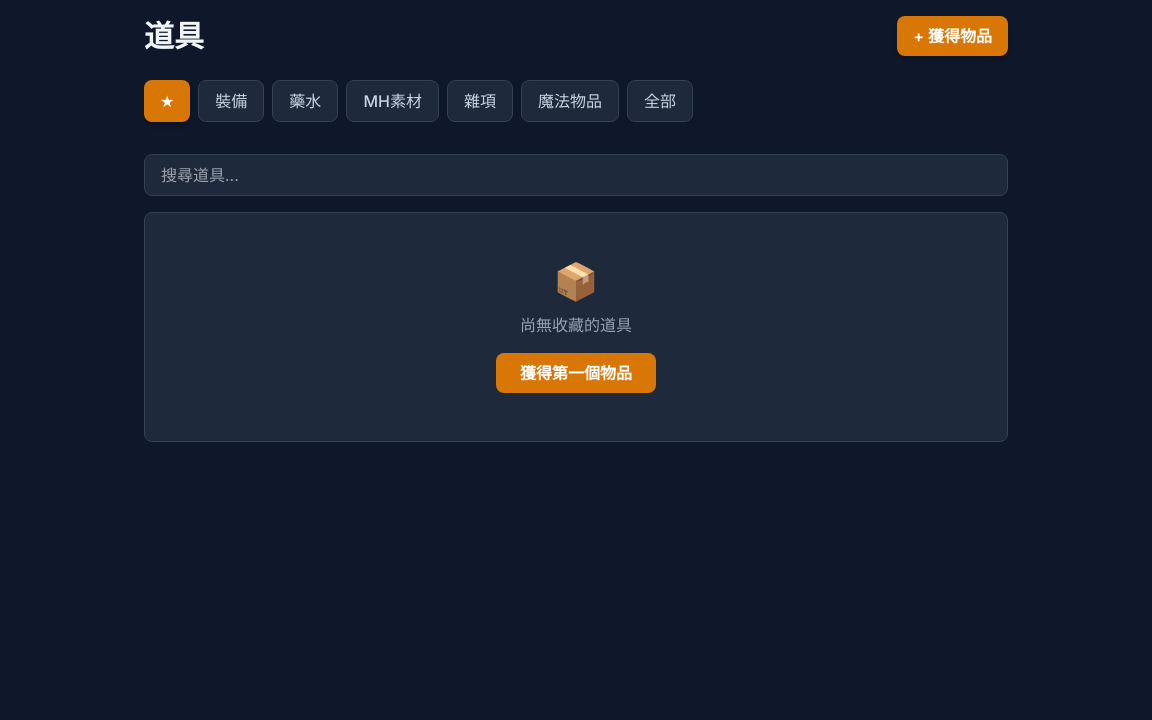
it: ItemsPage - 獲得物品挑到已擁有的物品 › 搜尋結果包含已擁有的物品：顯示「已持有」標籤，點「獲得」跳出數量彈窗，確定後累加數量、不建立新物品、不開詳情
The image size is (1152, 720).
Click the button "+ 獲得物品" at x=953, y=36, box [897, 16, 1008, 56]
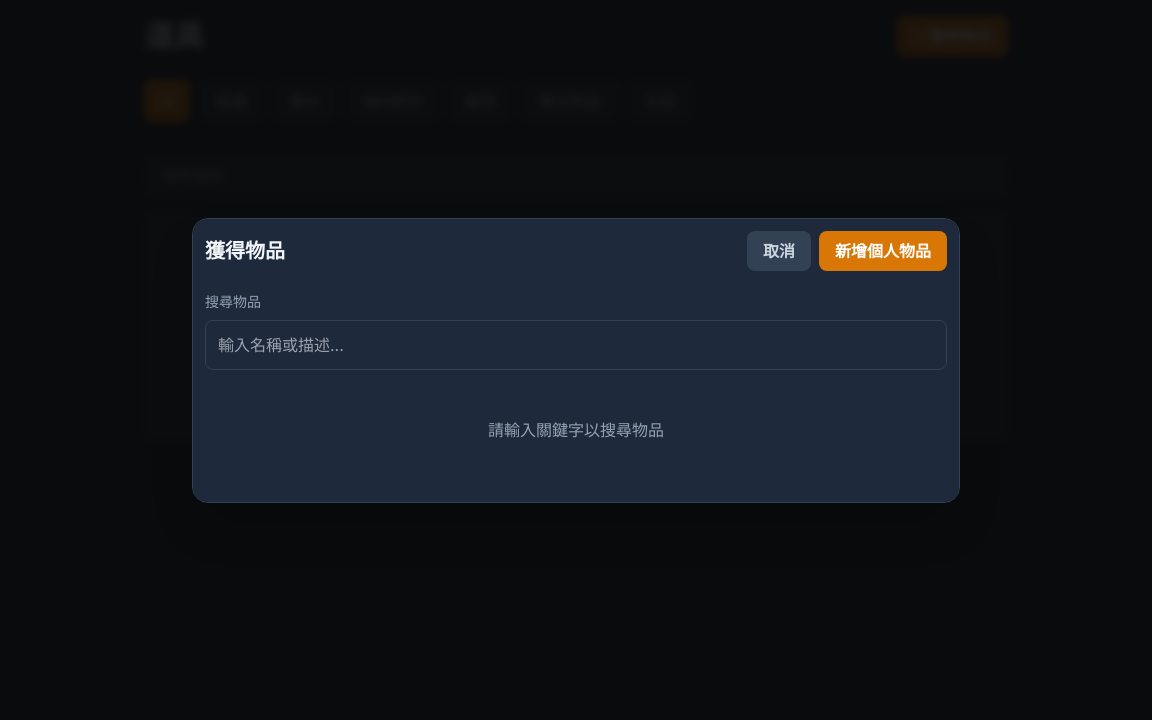
Expected: the field with placeholder "輸入名稱或描述..." is shown
Type "藥草" into the field with placeholder "輸入名稱或描述..." at x=576, y=344, box [205, 320, 947, 370]
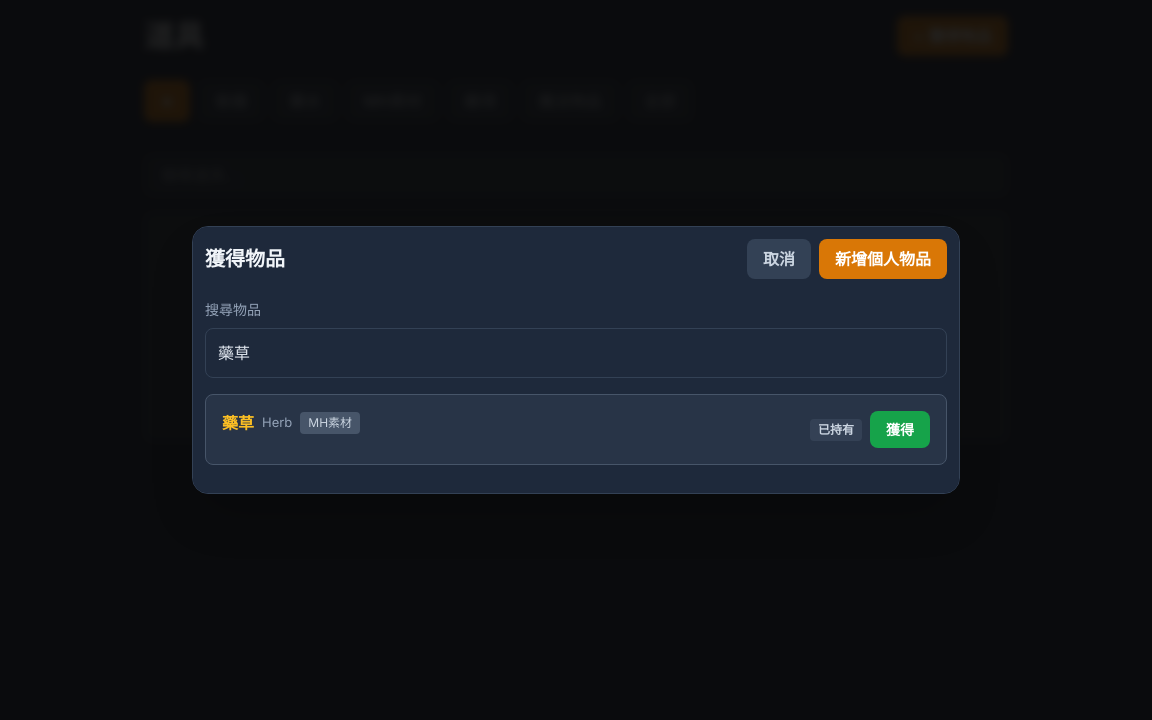
Expected: the text "已持有" is shown, [810, 418, 862, 440]
Click the button "獲得" at x=900, y=430, box [870, 411, 930, 448]
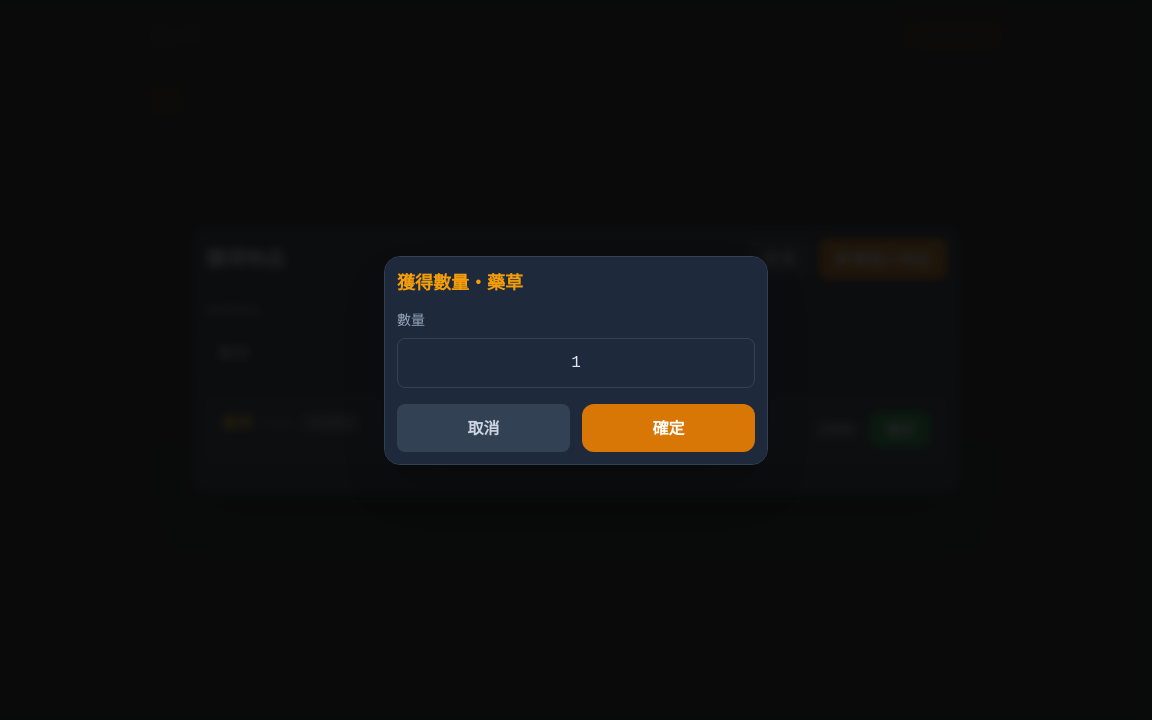
Replace the text in the field labelled "數量" with "3" at x=576, y=362, box [397, 338, 755, 388]
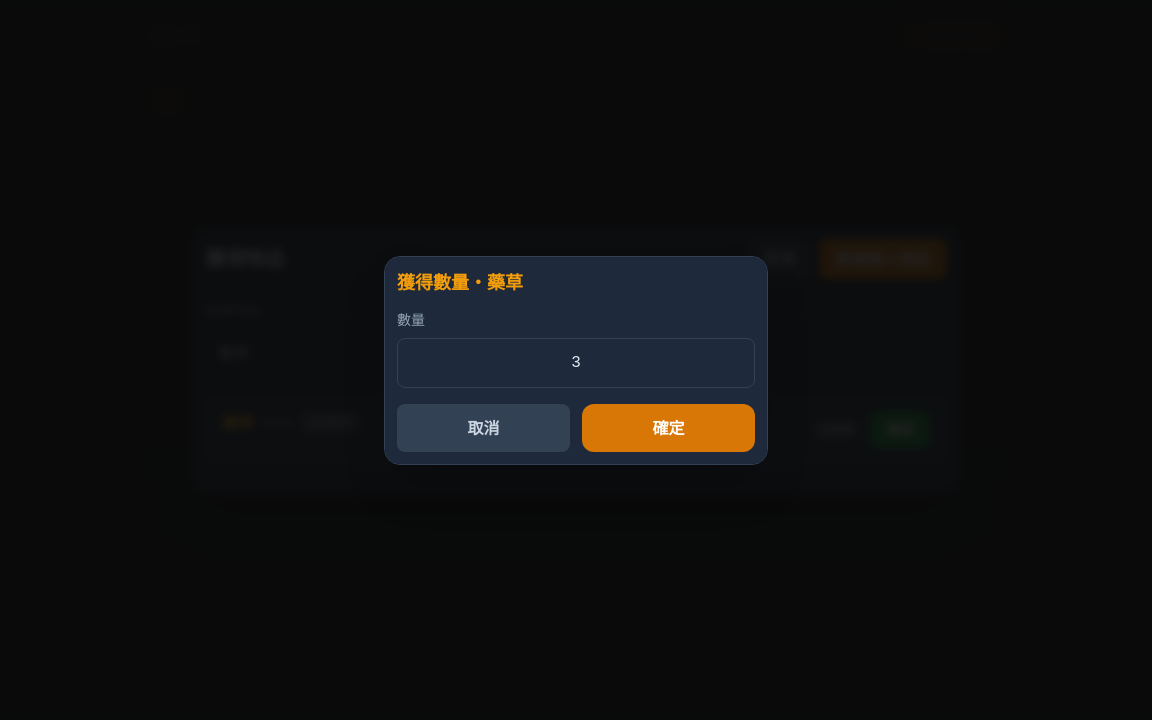
Click the button "確定" at x=668, y=428, box [582, 404, 755, 452]
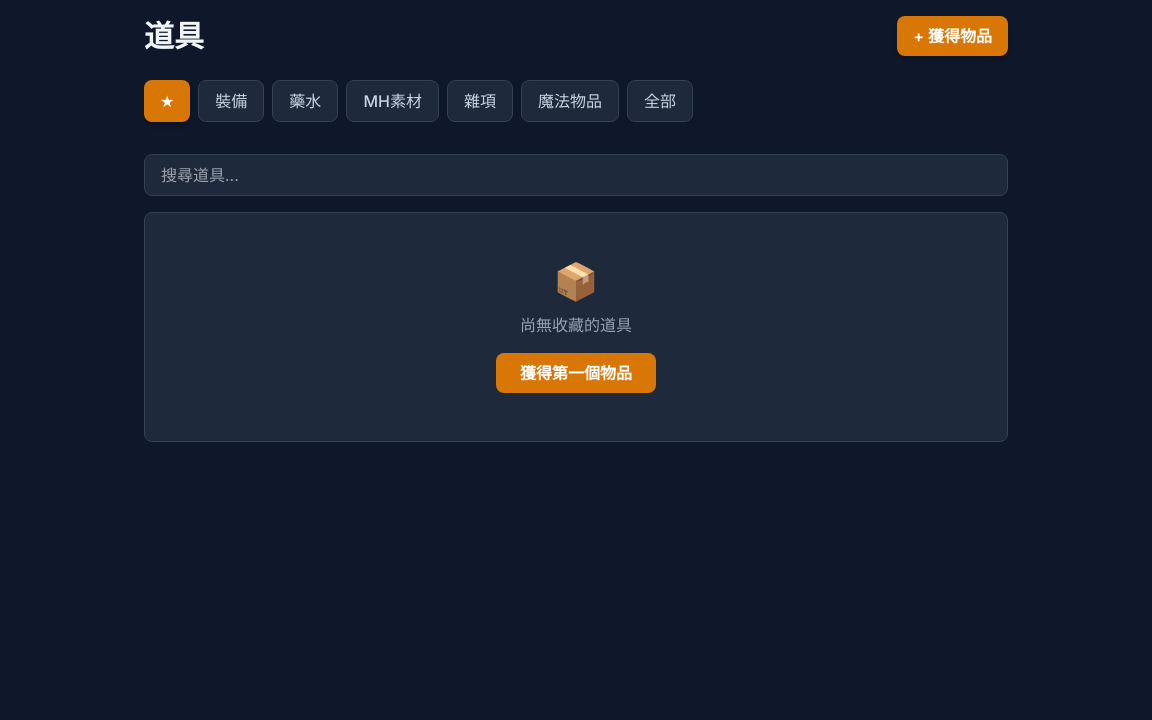
Expected: the field with placeholder "輸入名稱或描述..." is gone
